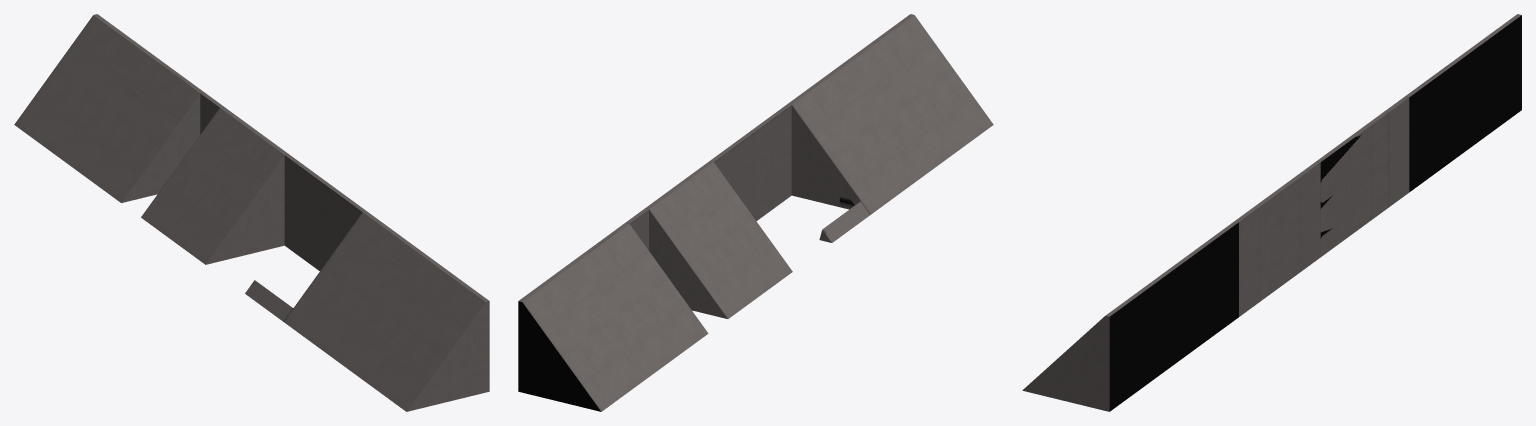
The model's file is cafet_wall.fbx.
The picture shows the model from 3 angles, left to right: view 1: azimuth 30°, elevation 25°; view 2: azimuth 150°, elevation 25°; view 3: azimuth 330°, elevation 25°; orthographic projection. The views are drawn at different scales.
Parts seen in each view (by area): view 1: Mur_cafet_inf; view 2: Mur_cafet_inf; view 3: Mur_cafet_inf.
Boxes of the visible parts, x1=… form: Mur_cafet_inf: x1=14, y1=14, x2=489, y2=411; Mur_cafet_inf: x1=518, y1=14, x2=993, y2=411; Mur_cafet_inf: x1=1022, y1=14, x2=1521, y2=411.
Bounding box in the file's own units: 500 × 520 × 4079.
Materials: 1 (1 with a texture image).
